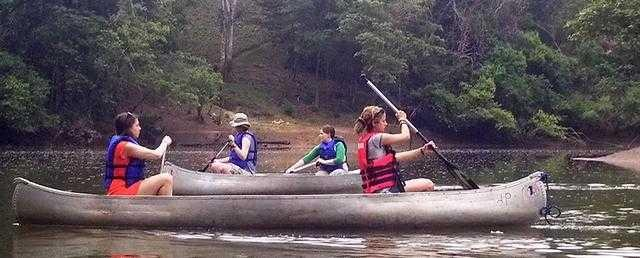kayak: (8, 162, 550, 232)
